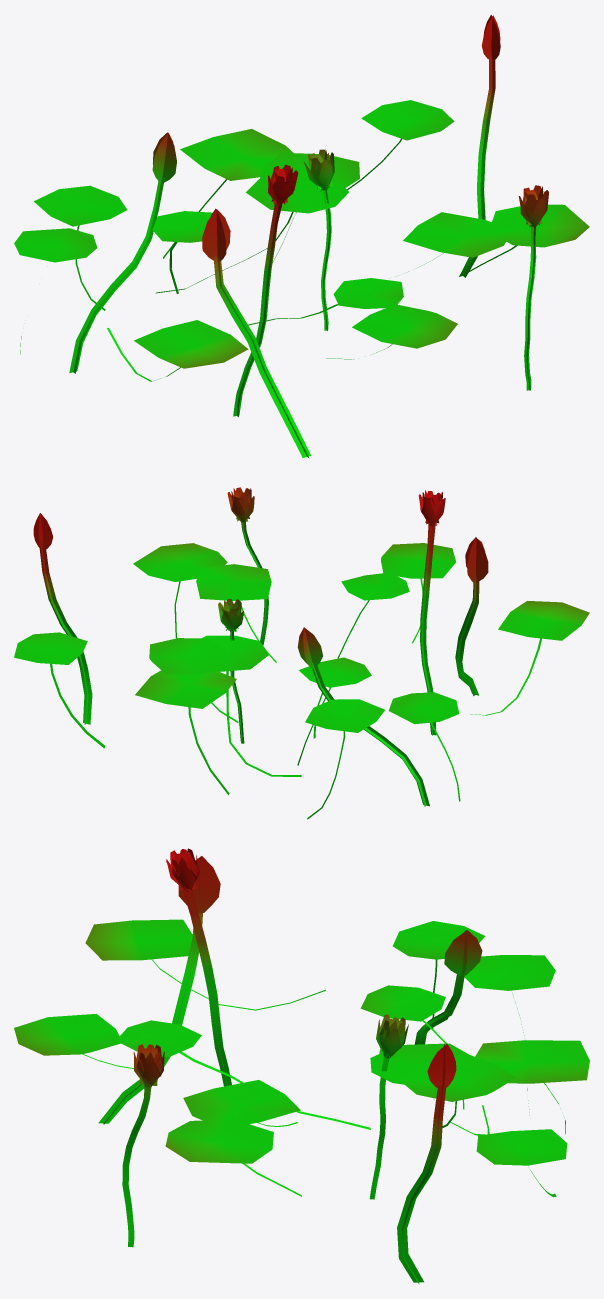
File: Var3_LOD2.fbx
3 renders of one model, top to bottom at view 1: azimuth 30°, elevation 25°; view 2: azimuth 150°, elevation 25°; view 3: azimuth 270°, elevation 25°, orthographic. The views are drawn at different scales.
Parts seen in each view (by area): view 1: _bb9f_Var3_LOD2; view 2: _bb9f_Var3_LOD2; view 3: _bb9f_Var3_LOD2.
Boxes of the visible parts, x1,y1,x2,y2 form: _bb9f_Var3_LOD2: (14,15,589,458); _bb9f_Var3_LOD2: (14,487,589,819); _bb9f_Var3_LOD2: (14,848,589,1284).
Size of the model in its own units: 139 by 70.36 by 132.
